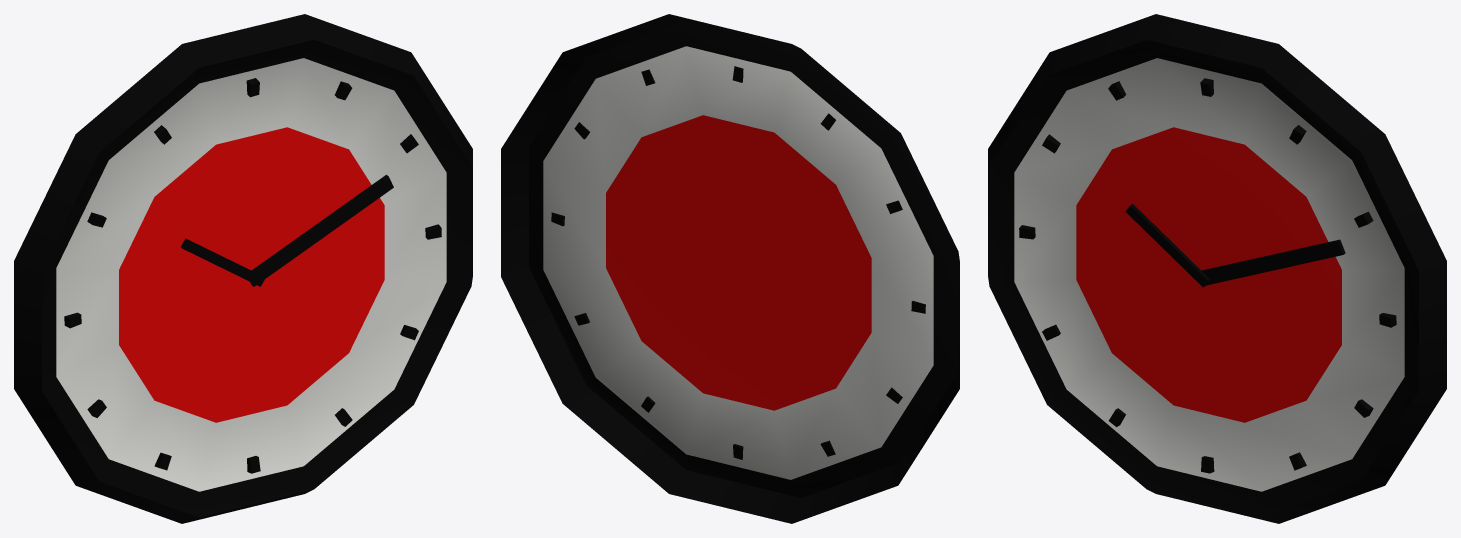
The model's file is RE_ClockRoom02.FBX.
3 views of the same model, side by side, from view 1: azimuth 30°, elevation 25°; view 2: azimuth 150°, elevation 25°; view 3: azimuth 330°, elevation 25° (orthographic).
Visible parts, largest first — view 1: RE_ClockRoom02; view 2: RE_ClockRoom02; view 3: RE_ClockRoom02.
Part boxes in pixels (<box>): RE_ClockRoom02: <box>14,14,472,523</box>; RE_ClockRoom02: <box>501,14,959,523</box>; RE_ClockRoom02: <box>988,14,1446,523</box>.
Size of the model in its own units: 36.5 by 36.5 by 2.17.
